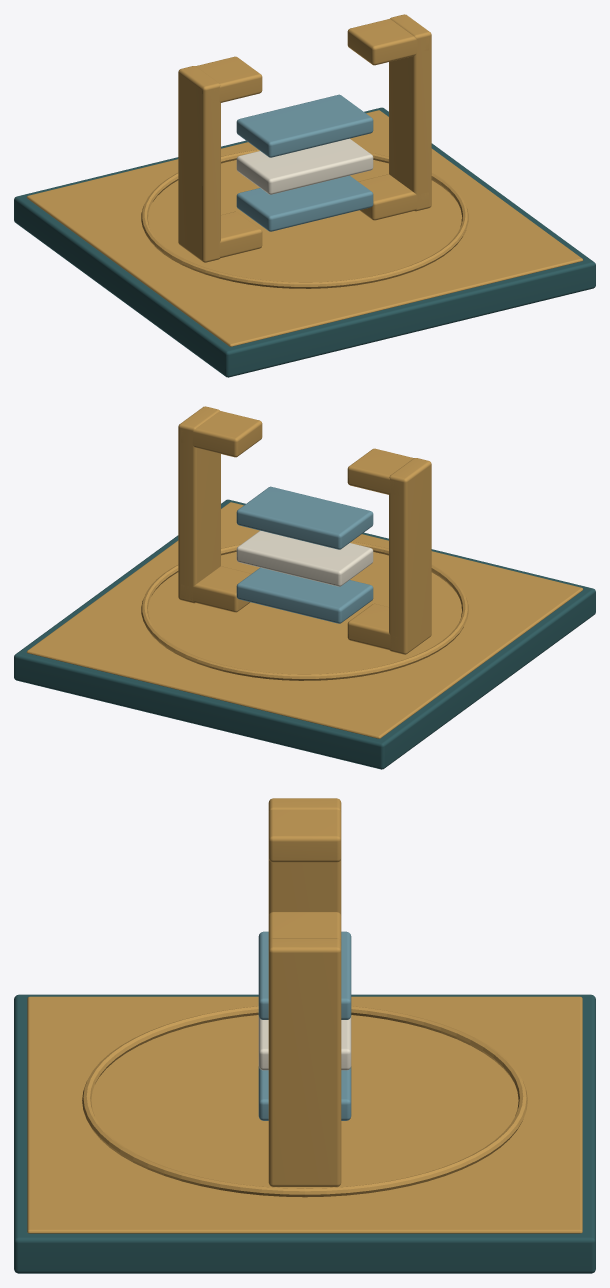
The model's file is helpers.h.glb.
3 renders of one model, top to bottom at view 1: azimuth 30°, elevation 25°; view 2: azimuth 150°, elevation 25°; view 3: azimuth 270°, elevation 25°, orthographic. The views are drawn at different scales.
Visible parts, largest first — view 1: Cube.001, Cube, Cube.002, Cube.005, Cube.010, Cube.008, Cube.009, Torus.009, Cube.007, Cube.006, Cube.004, Cube.003; view 2: Cube.001, Cube, Cube.002, Cube.005, Cube.010, Cube.008, Cube.009, Torus.009, Cube.007, Cube.004, Cube.006, Cube.003; view 3: Cube.001, Cube, Cube.005, Torus.009, Cube.002, Cube.004, Cube.007, Cube.010, Cube.008, Cube.009.
Part boxes in pixels (<box>): Cube.001: <box>26,110,583,346</box>; Cube: <box>14,107,595,377</box>; Cube.002: <box>178,66,220,262</box>; Cube.005: <box>389,14,431,211</box>; Cube.010: <box>236,94,373,157</box>; Cube.008: <box>236,175,373,231</box>; Cube.009: <box>236,138,373,194</box>; Torus.009: <box>141,150,468,288</box>; Cube.007: <box>347,19,428,65</box>; Cube.006: <box>358,174,428,220</box>; Cube.004: <box>196,56,262,102</box>; Cube.003: <box>219,211,262,257</box>; Cube.001: <box>26,502,583,738</box>; Cube: <box>14,499,595,769</box>; Cube.002: <box>389,458,431,654</box>; Cube.005: <box>178,406,220,603</box>; Cube.010: <box>236,486,373,549</box>; Cube.008: <box>236,567,373,623</box>; Cube.009: <box>236,530,373,586</box>; Torus.009: <box>141,542,468,680</box>; Cube.007: <box>181,411,262,457</box>; Cube.004: <box>347,448,413,494</box>; Cube.006: <box>181,566,251,612</box>; Cube.003: <box>347,603,397,649</box>; Cube.001: <box>27,996,582,1233</box>; Cube: <box>14,994,595,1273</box>; Cube.005: <box>268,938,341,1186</box>; Torus.009: <box>82,1006,527,1197</box>; Cube.002: <box>268,798,341,915</box>; Cube.004: <box>268,809,341,862</box>; Cube.007: <box>268,912,341,941</box>; Cube.010: <box>258,931,351,1019</box>; Cube.008: <box>258,1066,351,1120</box>; Cube.009: <box>258,1016,351,1070</box>.
Size of the model in its own units: 4.4 by 2.33 by 4.4.
